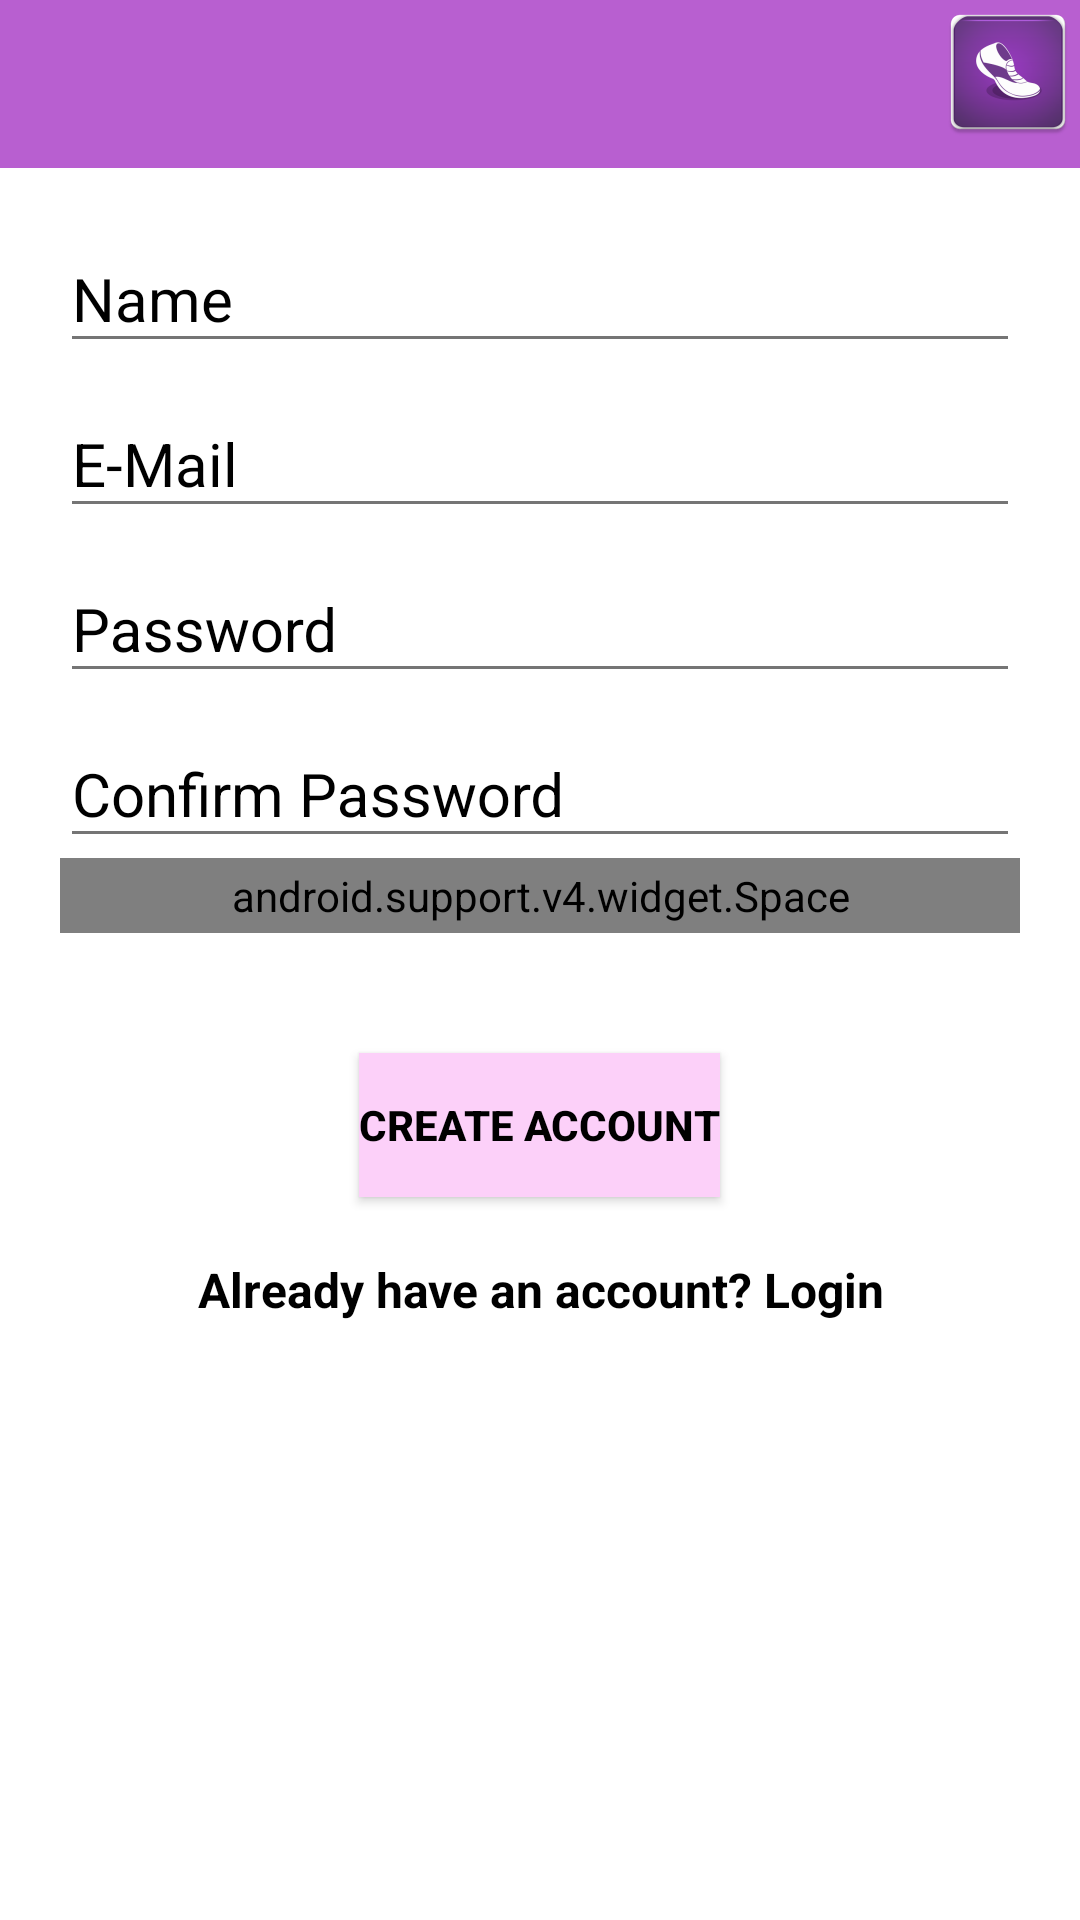

Named icons in this screenshot (1080x1920) and their bounding boxes, (x1, y1, x2, y2):
app: (951, 15, 1065, 132)
